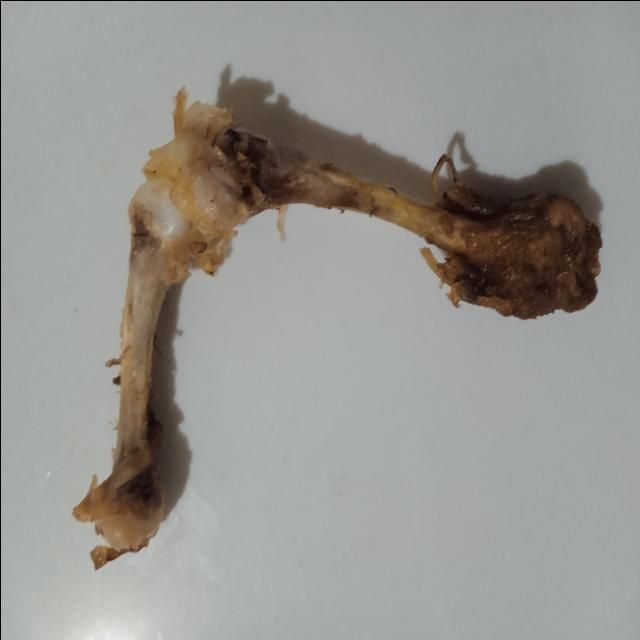bone: (62, 70, 614, 596)
